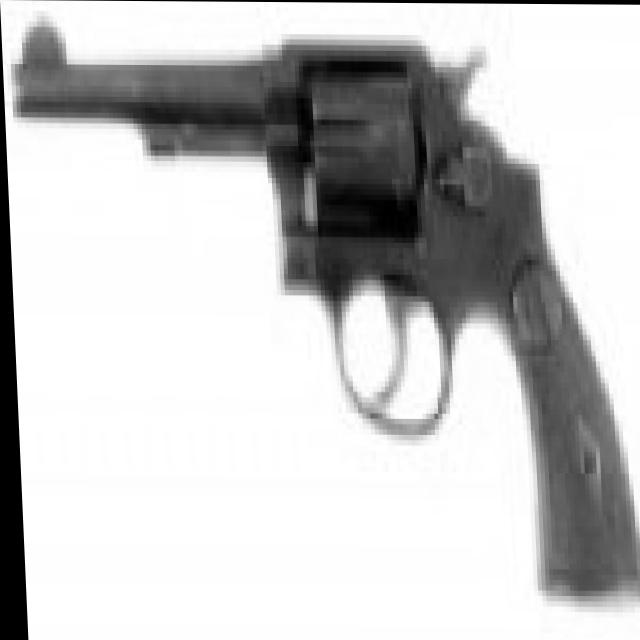handgun: (4, 6, 640, 601)
